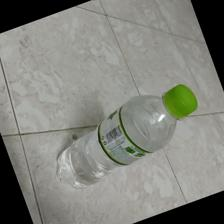Dasani: (52, 81, 199, 193)
